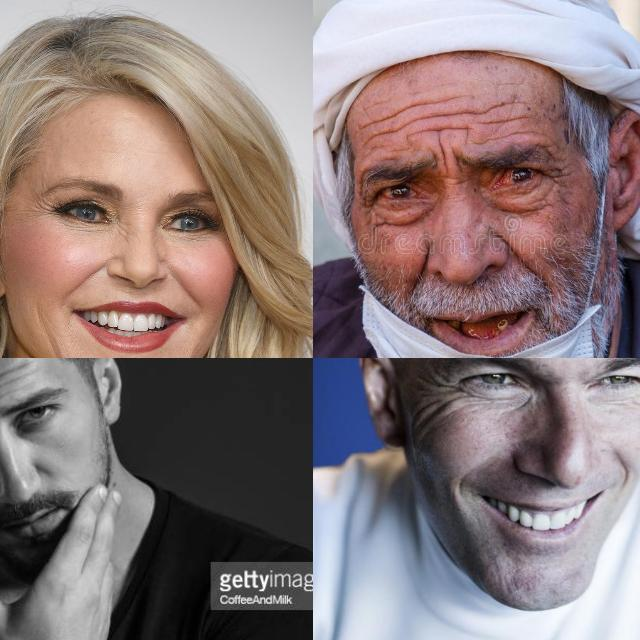bunny_line: (119, 222, 135, 246)
crows_feet: (414, 368, 456, 419), (354, 190, 382, 224), (544, 158, 568, 192), (32, 192, 58, 220)
forehead: (450, 90, 486, 144), (488, 92, 534, 134), (406, 96, 442, 134), (359, 110, 397, 142), (0, 363, 34, 383), (0, 379, 12, 400)
gummy_smile: (505, 235, 539, 278), (68, 260, 109, 294), (172, 274, 204, 312), (410, 248, 434, 288)
masseter: (31, 303, 65, 358)
